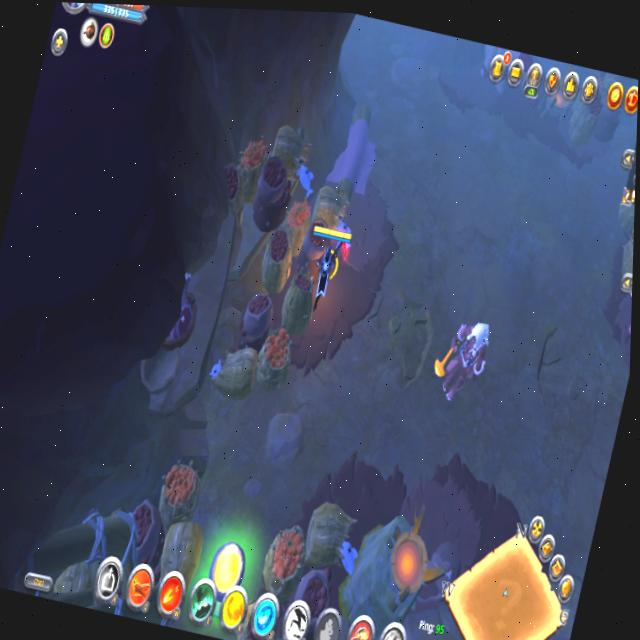fiber: (202, 529, 255, 609)
ore: (423, 303, 502, 428)
red: (295, 219, 355, 317)
